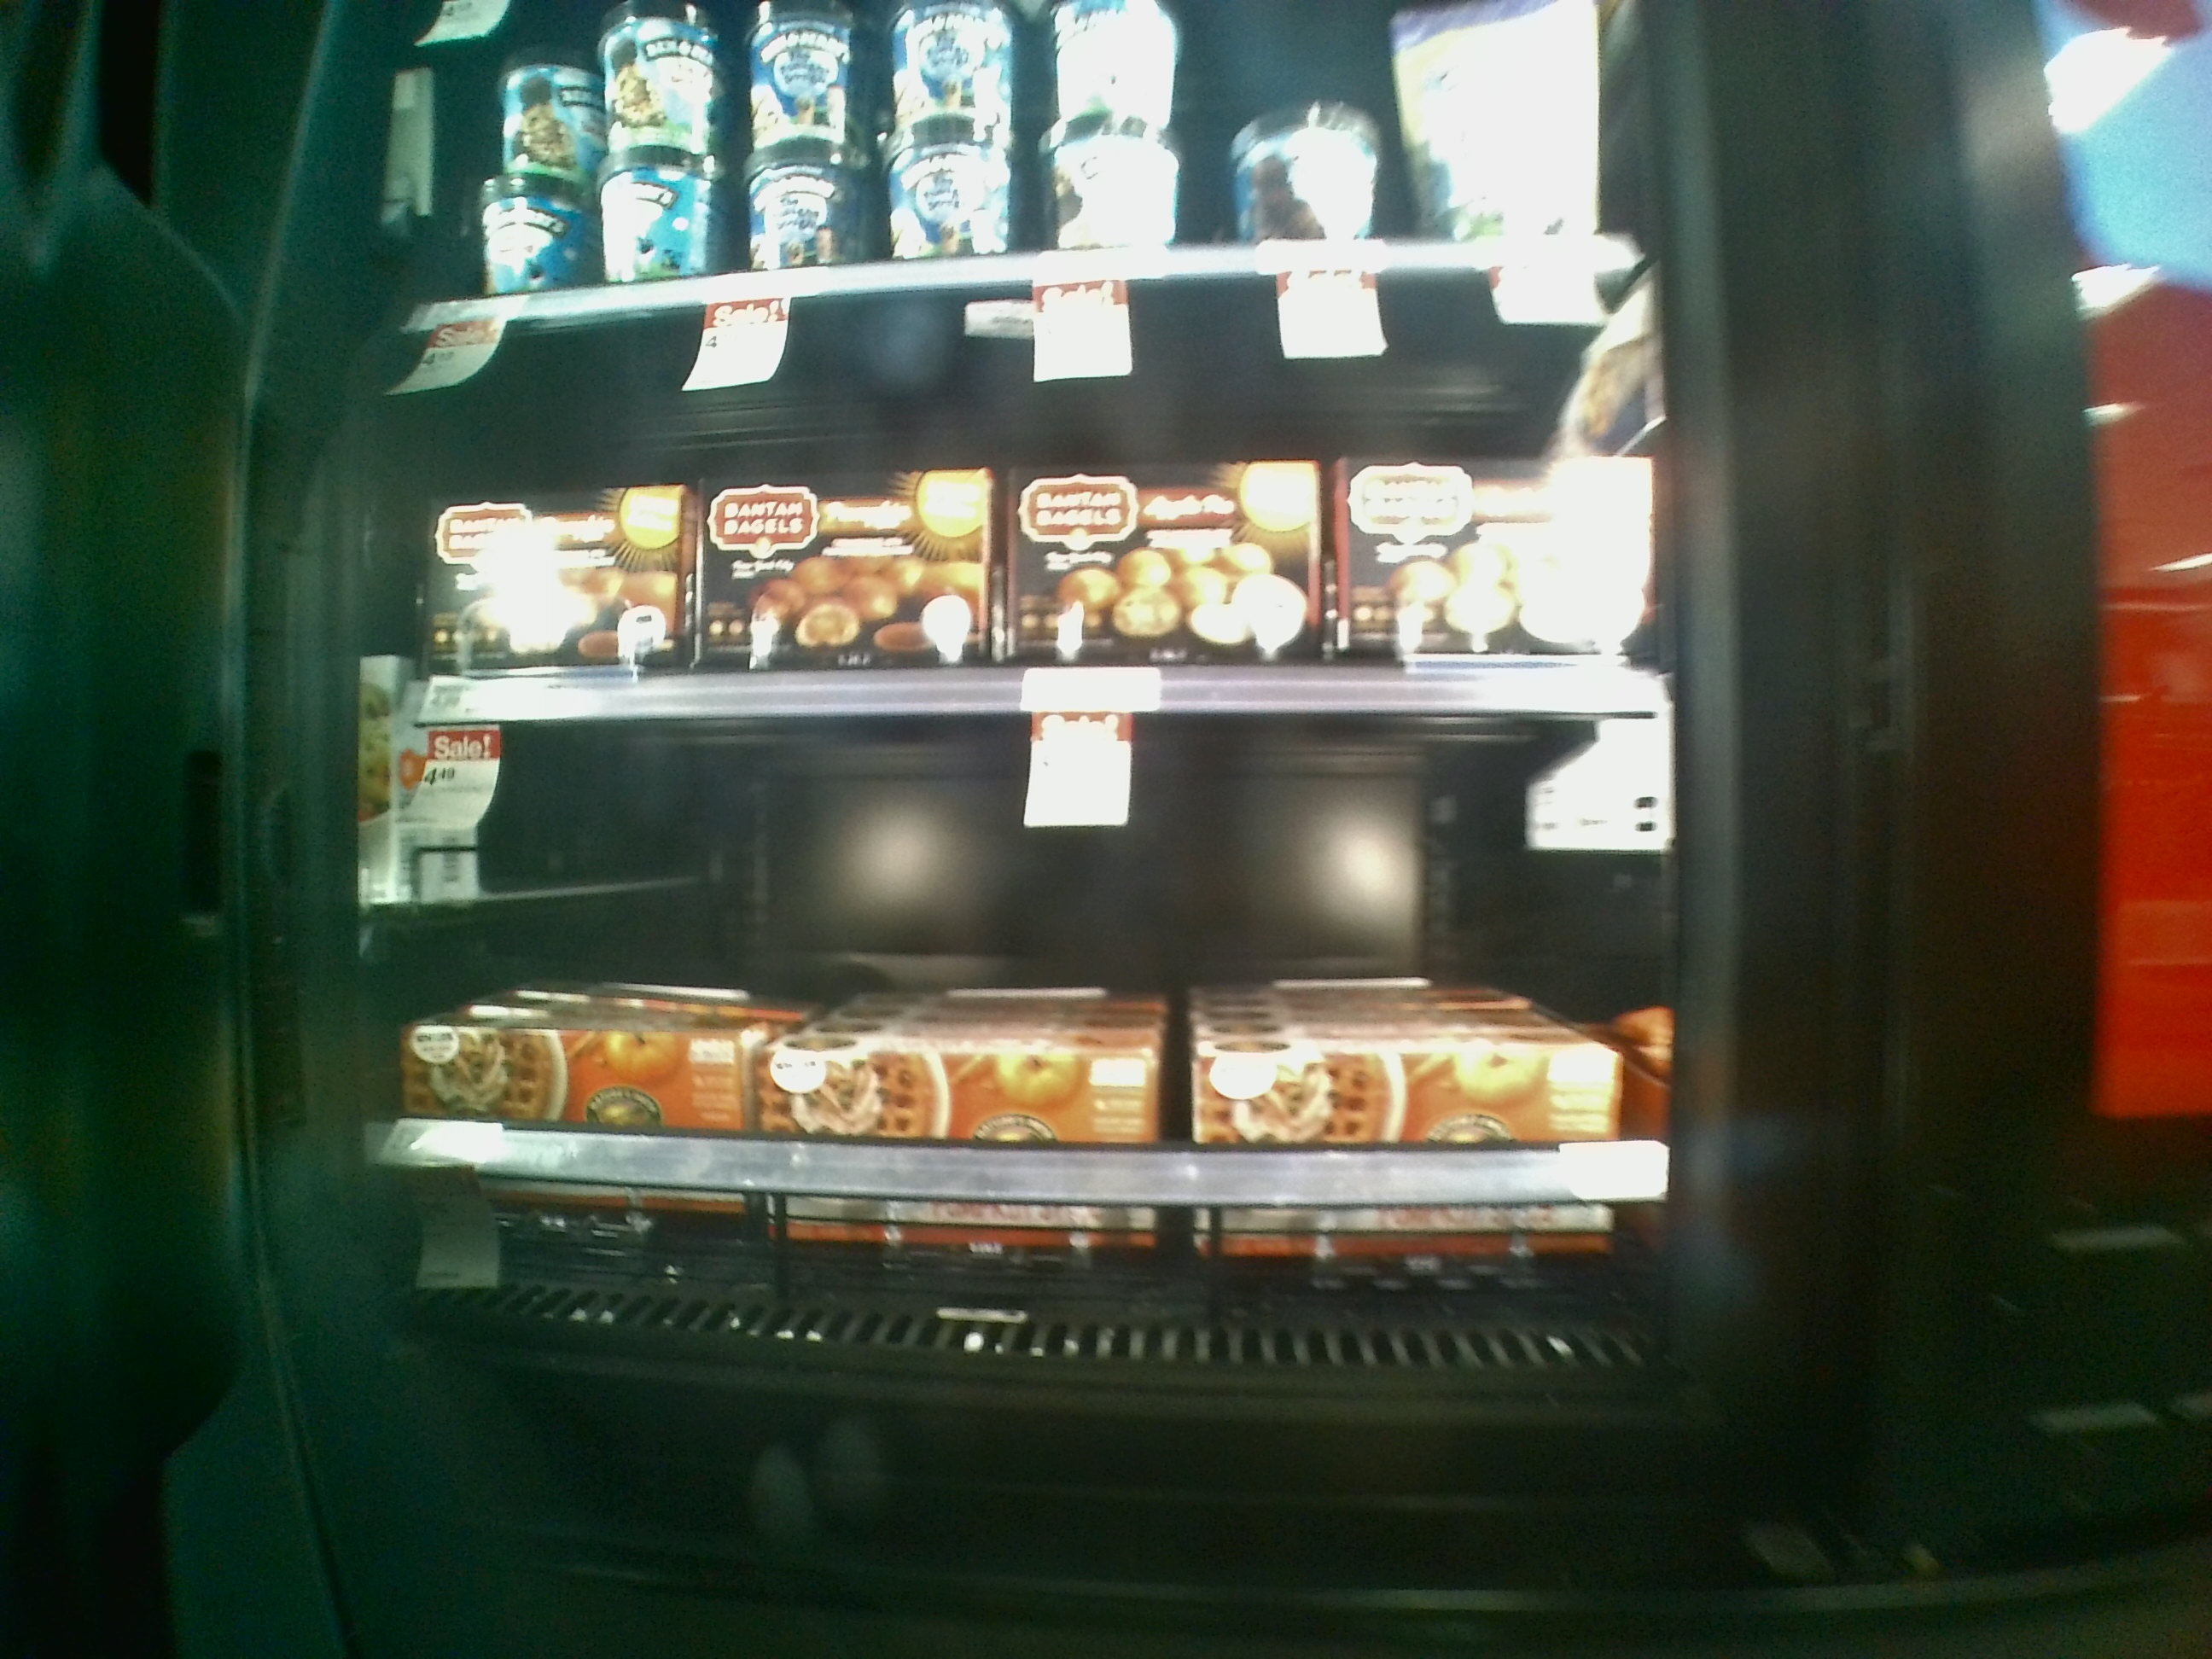shelf: (341, 718, 1683, 1415), (364, 319, 1689, 716)
